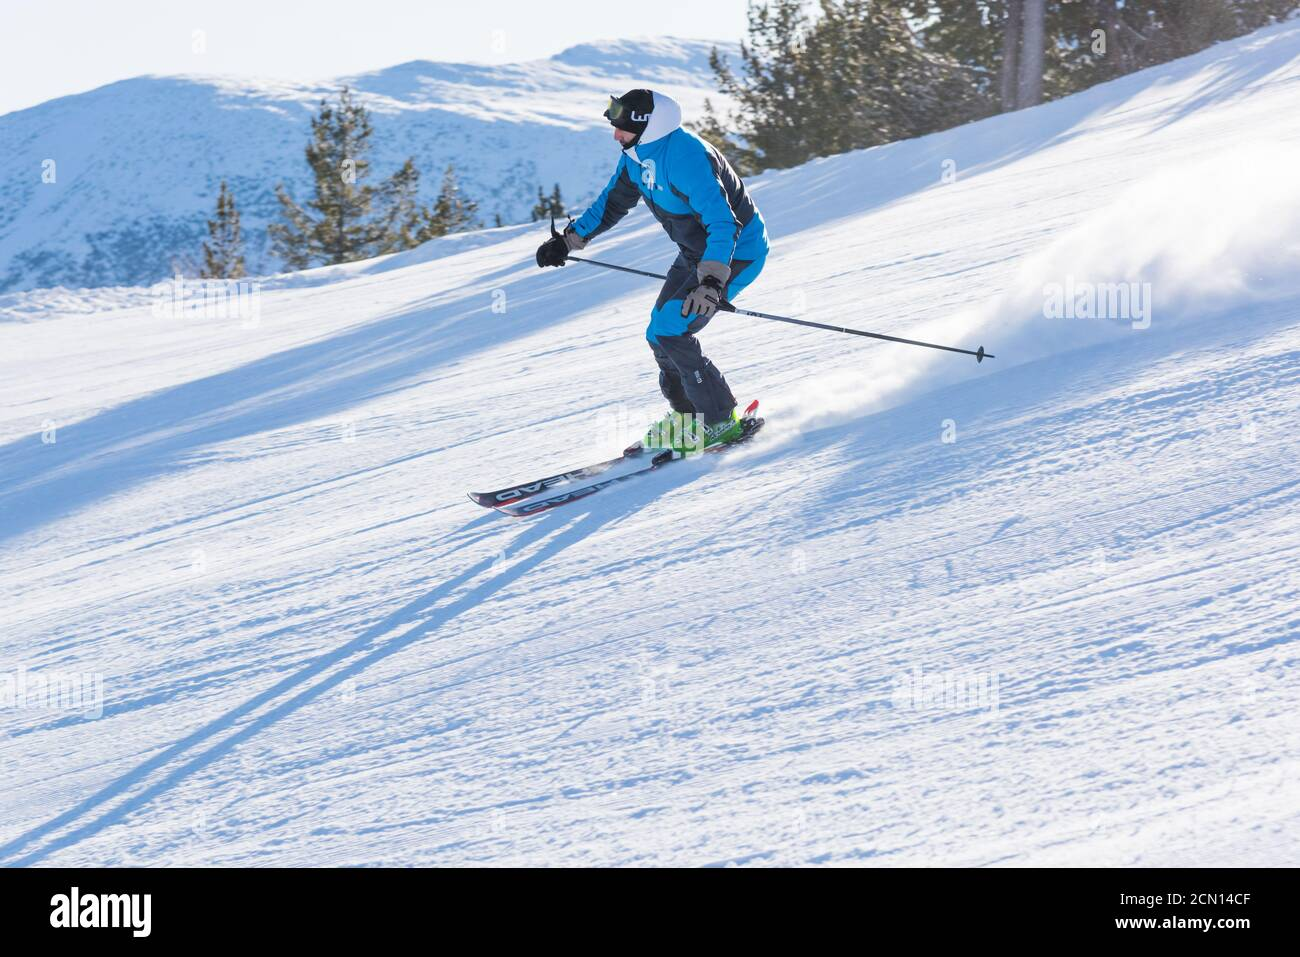skier: (461, 90, 991, 530)
